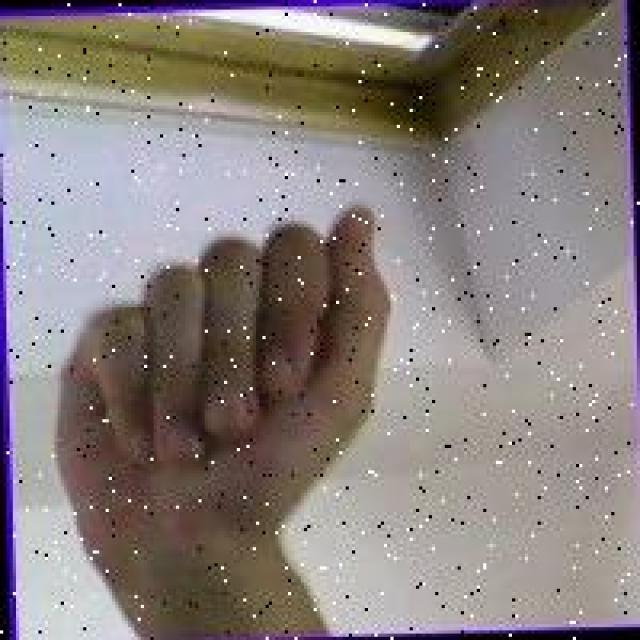A: (42, 204, 410, 558)
